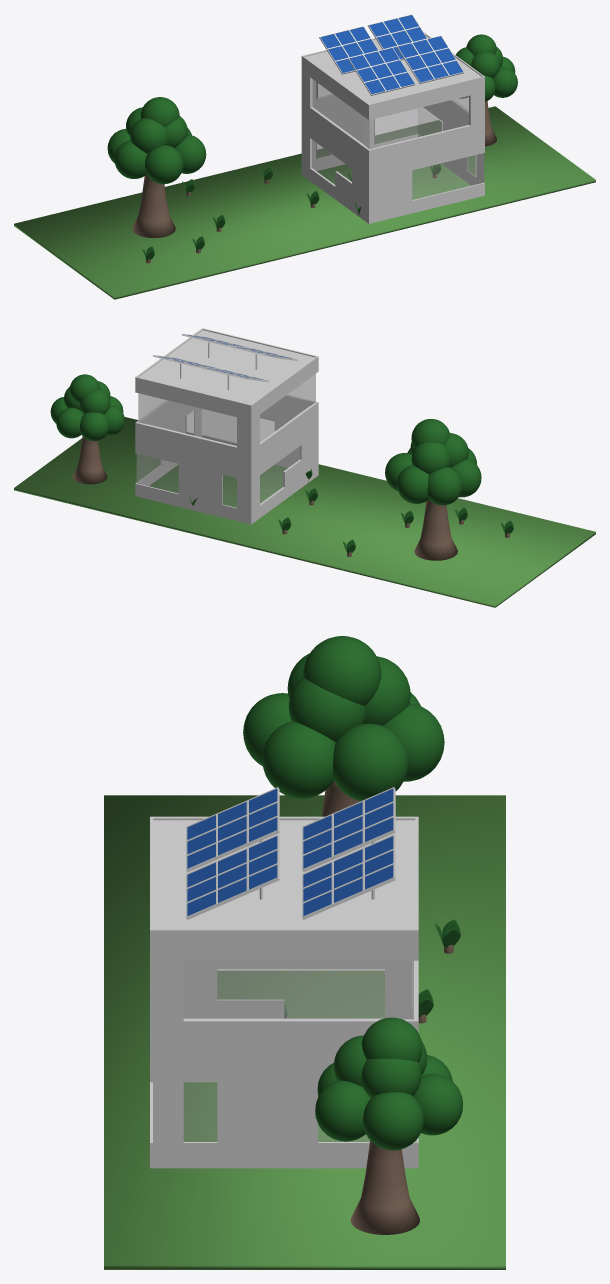
The model's file is house2.glb.
3 views of the same model, one above another, from view 1: azimuth 30°, elevation 25°; view 2: azimuth 150°, elevation 25°; view 3: azimuth 270°, elevation 25° (orthographic). The views are drawn at different scales.
Parts seen in each view (by area): view 1: Gram_Floor, Building, Tree, Solar_Painel, Cylinder.015, Gram; view 2: Gram_Floor, Building, Tree, Cylinder.015, Solar_Painel, Gram; view 3: Gram_Floor, Building, Tree, Cylinder.015, Solar_Painel.
Boxes of the visible parts, x1,y1,x2,y2 form: Gram_Floor: (14, 106, 595, 299); Building: (301, 31, 484, 223); Tree: (107, 97, 206, 237); Solar_Painel: (319, 14, 464, 95); Cylinder.015: (456, 34, 517, 146); Gram: (142, 164, 441, 263); Gram_Floor: (14, 417, 595, 607); Building: (135, 328, 318, 524); Tree: (385, 419, 481, 560); Cylinder.015: (50, 374, 124, 484); Solar_Painel: (152, 334, 297, 390); Gram: (189, 469, 513, 537); Gram_Floor: (104, 795, 505, 1269); Building: (150, 816, 418, 1168); Tree: (243, 636, 444, 816); Cylinder.015: (315, 1017, 462, 1234); Solar_Painel: (186, 787, 395, 919).
Size of the model in its own units: 1.98 by 0.558 by 0.715.
